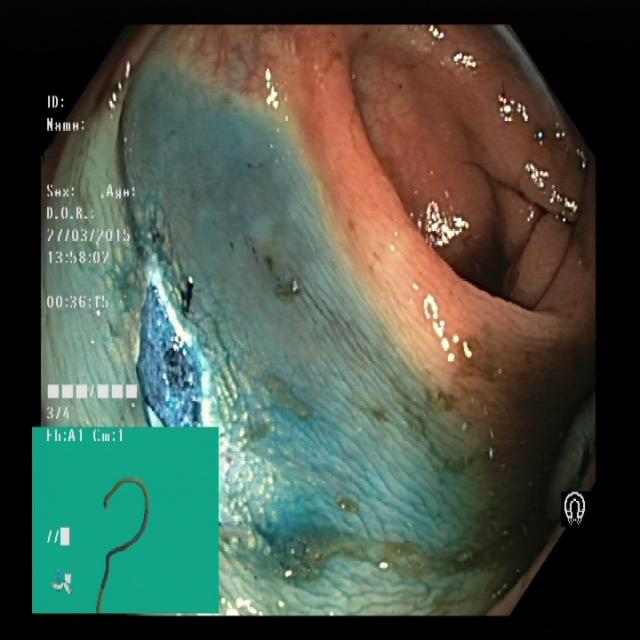dyed-resection-margins: (124, 257, 221, 428)
